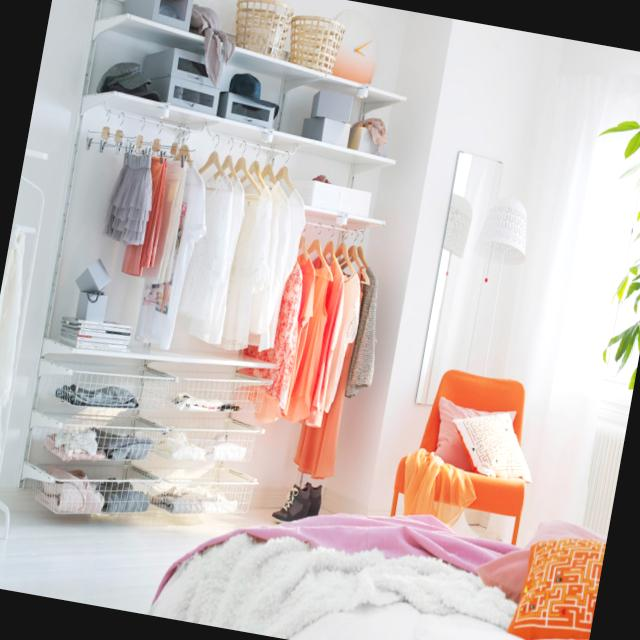obstacle: (158, 479, 603, 640), (386, 359, 552, 547)
